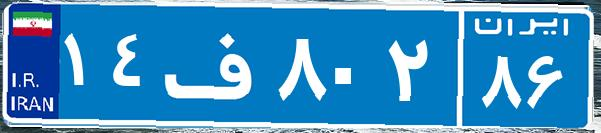0: (330, 28, 385, 110)
1: (57, 26, 110, 107)
2: (385, 28, 445, 110)
4: (110, 28, 158, 105)
6: (525, 38, 570, 115)
8: (273, 28, 330, 110), (475, 38, 525, 113)
ف: (158, 15, 273, 115)
